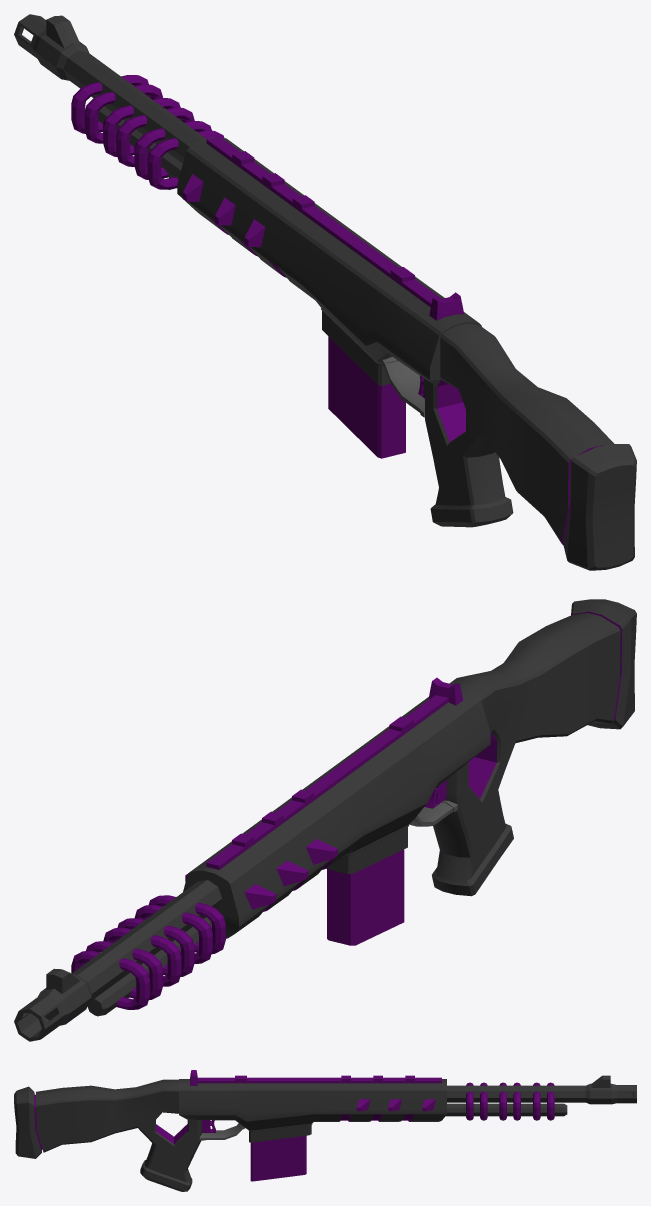
Rendered from Ranged Enemy Rifle.fbx.
3 renders of one model, top to bottom at view 1: azimuth 30°, elevation 25°; view 2: azimuth 150°, elevation 25°; view 3: azimuth 270°, elevation 25°, orthographic. The views are drawn at different scales.
Parts seen in each view (by area): view 1: polySurface268, polySurface250, polySurface210, polySurface150; view 2: polySurface268, polySurface250, polySurface210, polySurface150; view 3: polySurface268, polySurface250, polySurface210, polySurface150.
Boxes of the visible parts, x1,y1,x2,y2 form: polySurface268: (423,323,636,570); polySurface250: (177,137,481,385); polySurface210: (71,75,463,458); polySurface150: (14,14,424,417); polySurface268: (432,599,636,896); polySurface250: (183,688,490,938); polySurface210: (71,677,462,1009); polySurface150: (14,800,457,1041); polySurface268: (14,1079,201,1191); polySurface250: (179,1079,446,1142); polySurface210: (190,1070,554,1181); polySurface150: (199,1075,636,1140).
Bounding box in the file's own units: 6.17 × 14.69 × 71.51.
